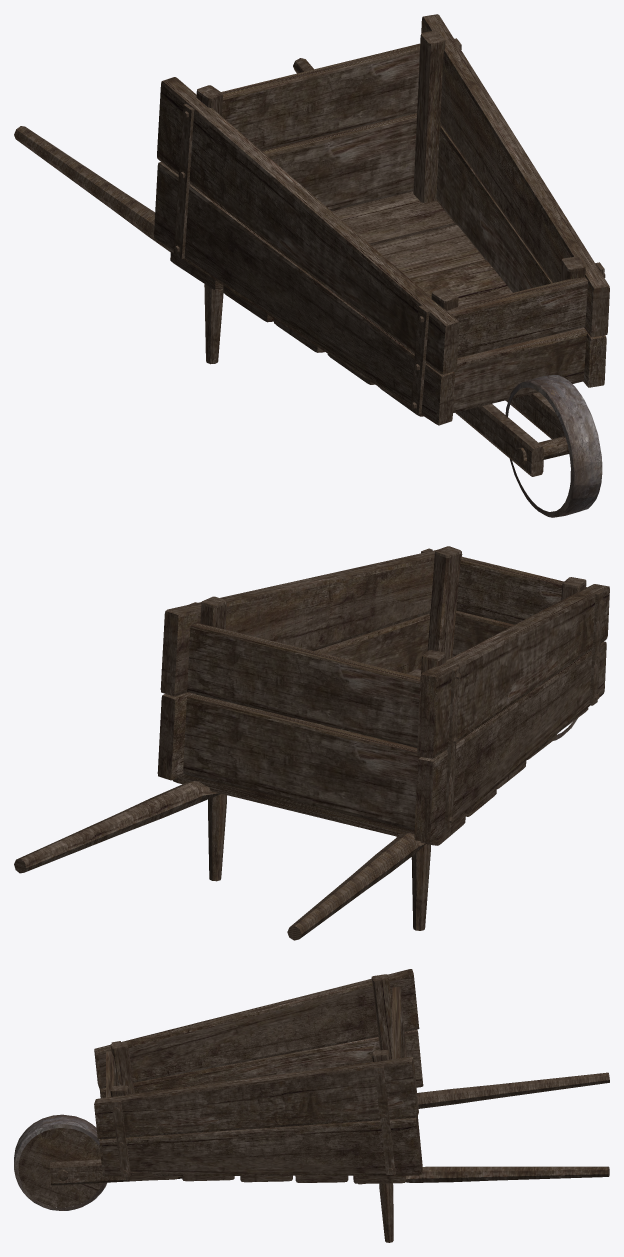
File: carretilla glb.draco.glb
3 renders of one model, top to bottom at view 1: azimuth 30°, elevation 25°; view 2: azimuth 150°, elevation 25°; view 3: azimuth 270°, elevation 25°, orthographic. The views are drawn at different scales.
Parts seen in each view (by area): view 1: Board007, Board006, Board005, Board003, Board002, Board004, Board008, Board001, Metal_wheel, Board009, Support, Board010 (+7 smaller); view 2: Board002, Board003, Board005, Board007, Board006, Board004, Board008, Handle_right, Handle_left, Board009, Support002, Board001 (+5 smaller); view 3: Board005, Board007, Board004, Board006, Wheel, Handle_right, Handle_left, Metal_wheel, Brace_right, Support001, Metal_support002, Board003 (+6 smaller).
Part boxes in pixels (<box>): Board007: <box>157,77,459,374</box>; Board006: <box>154,162,454,425</box>; Board005: <box>421,14,609,337</box>; Board003: <box>221,43,420,150</box>; Board002: <box>262,113,416,210</box>; Board004: <box>436,126,606,387</box>; Board008: <box>447,277,588,357</box>; Board001: <box>453,327,587,412</box>; Metal_wheel: <box>505,375,602,517</box>; Board009: <box>170,191,455,289</box>; Support: <box>413,30,445,202</box>; Board010: <box>223,225,485,322</box>; Board002: <box>183,694,420,830</box>; Board003: <box>187,623,420,747</box>; Board005: <box>160,550,462,696</box>; Board007: <box>417,584,609,758</box>; Board006: <box>414,641,606,842</box>; Board004: <box>157,613,429,780</box>; Board008: <box>456,556,586,624</box>; Handle_right: <box>14,781,220,873</box>; Handle_left: <box>287,833,425,940</box>; Board009: <box>173,774,465,845</box>; Support002: <box>427,546,461,660</box>; Board001: <box>452,610,514,656</box>; Board005: <box>94,1057,418,1139</box>; Board007: <box>94,969,419,1088</box>; Board004: <box>99,1116,422,1176</box>; Board006: <box>99,1029,423,1098</box>; Wheel: <box>18,1128,102,1207</box>; Handle_right: <box>358,1166,609,1184</box>; Handle_left: <box>417,1072,609,1108</box>; Metal_wheel: <box>14,1114,106,1210</box>; Brace_right: <box>50,1159,182,1185</box>; Support001: <box>371,974,392,1059</box>; Metal_support002: <box>374,1066,395,1174</box>; Board003: <box>392,986,404,1059</box>.
Bounding box in the file's own units: 0.8391 × 0.7611 × 2.14.
2 materials, 2 textured.
